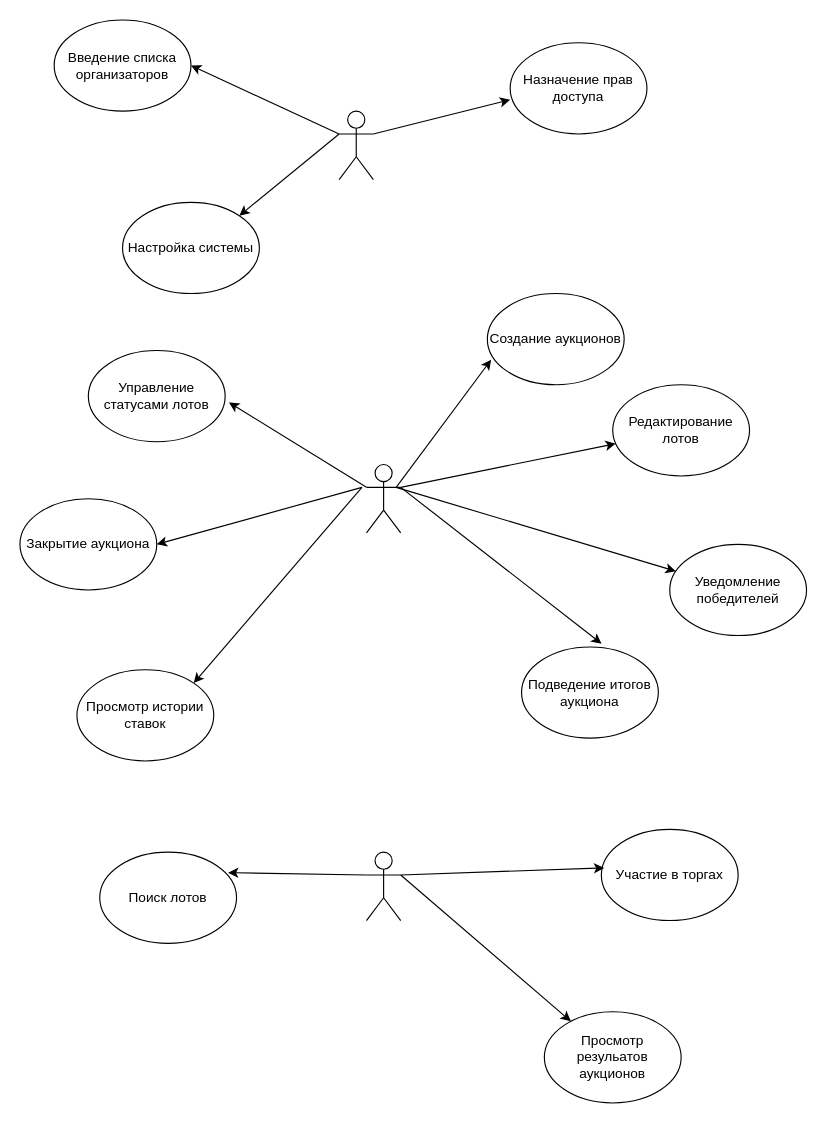
Image size: 827x1123. Some labels were removed from this diagram. Each missing label, with the centre of its shape:
Администратор: [355,145]
Организатор аукциона: [383,498]
Участник аукциона: [383,886]
